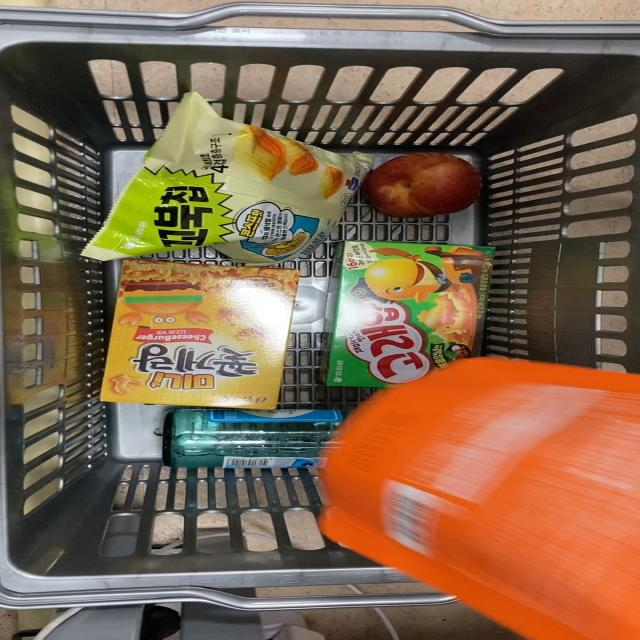cheesebagel: (359, 372, 640, 639)
ggobukchip: (87, 87, 351, 267)
goraebob: (324, 231, 493, 386)
jinro: (173, 411, 347, 462)
minicrab: (99, 261, 297, 406)
plum: (368, 146, 498, 220)
